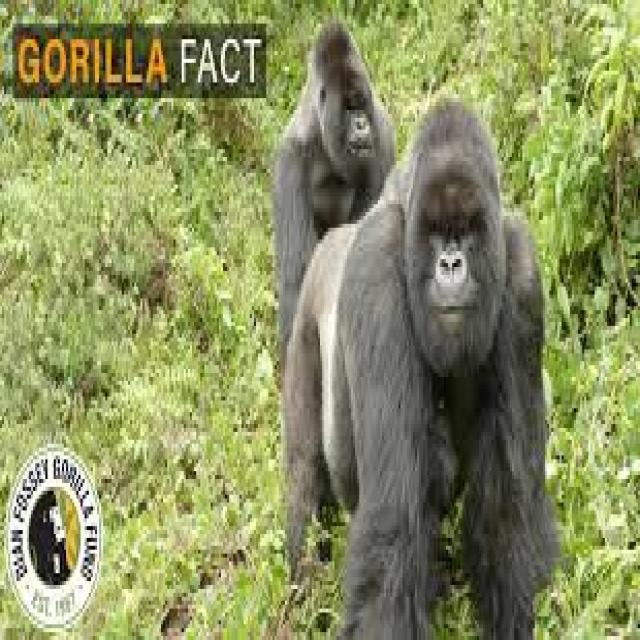Gorilla: (282, 98, 549, 640)
